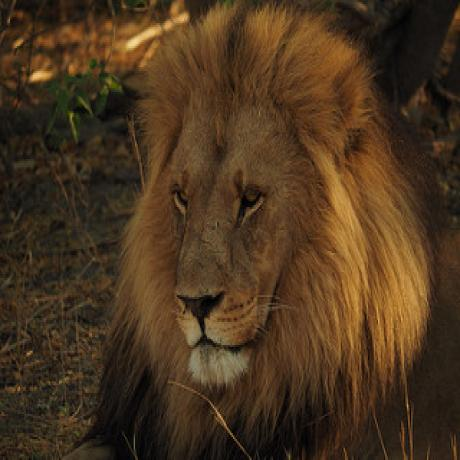Lion: (92, 0, 436, 460)
